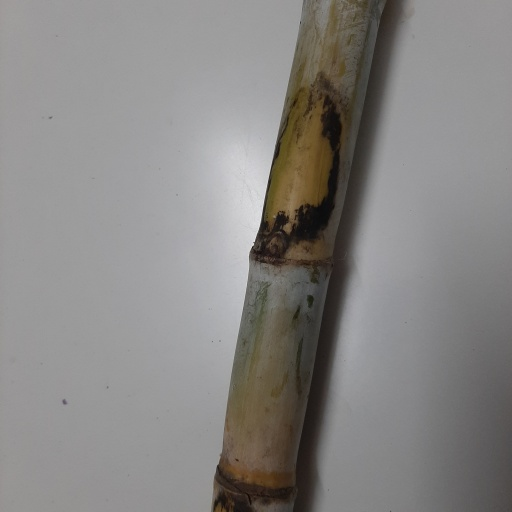Bud: (263, 231, 286, 260)
